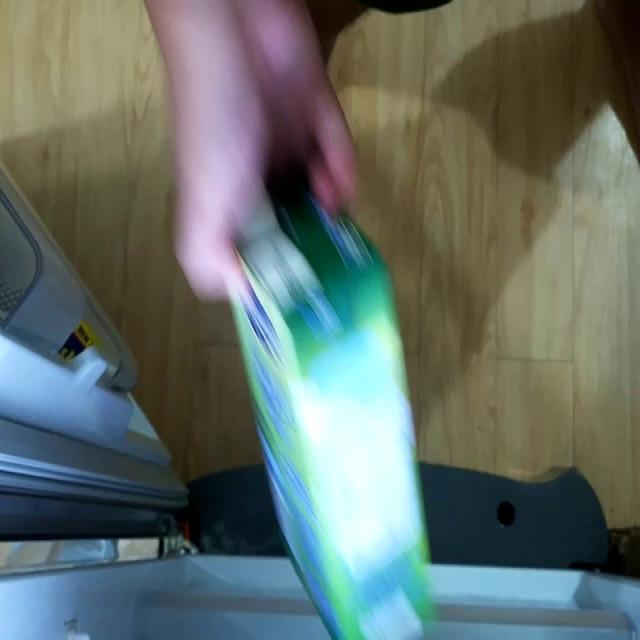milk: (215, 169, 448, 640)
